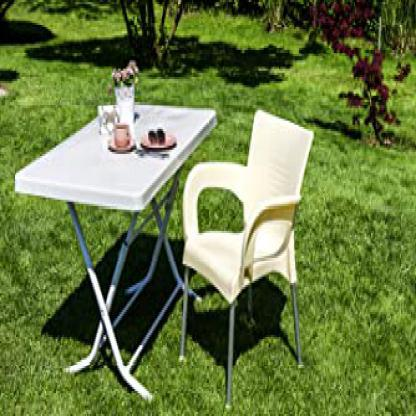table: (12, 90, 220, 406)
